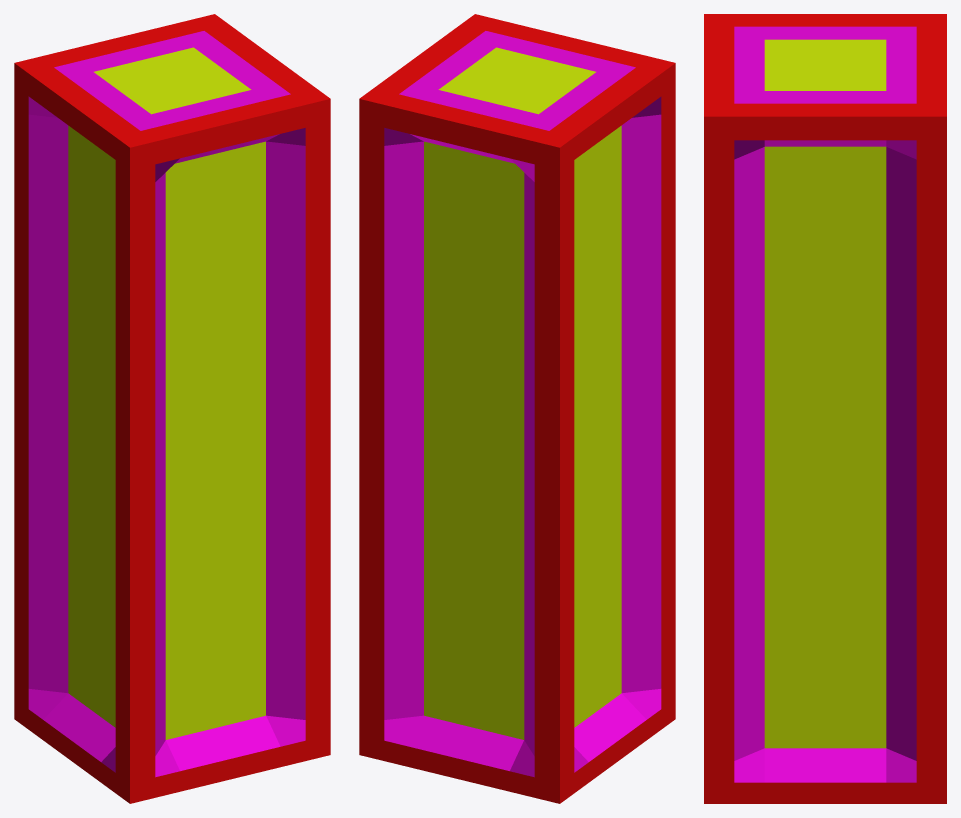
File: Pillar2.fbx
3 views of the same model, side by side, from view 1: azimuth 30°, elevation 25°; view 2: azimuth 150°, elevation 25°; view 3: azimuth 270°, elevation 25° (orthographic). The views are drawn at different scales.
Visible parts, largest first — view 1: Cube; view 2: Cube; view 3: Cube.
Boxes of the visible parts, x1,y1,x2,y2 form: Cube: (14, 14, 330, 803); Cube: (359, 14, 675, 803); Cube: (704, 14, 946, 803).
Bounding box in the file's own units: 800 × 2500 × 800.
